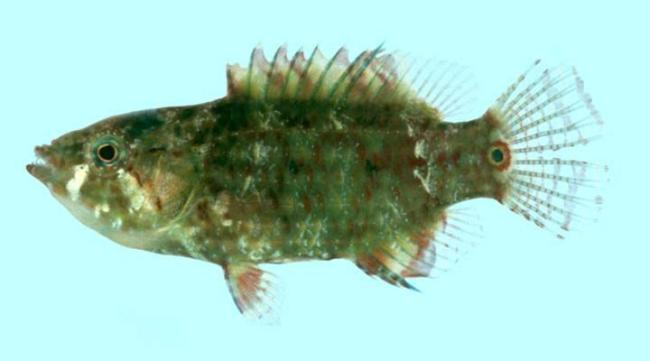fish: (25, 42, 609, 324)
